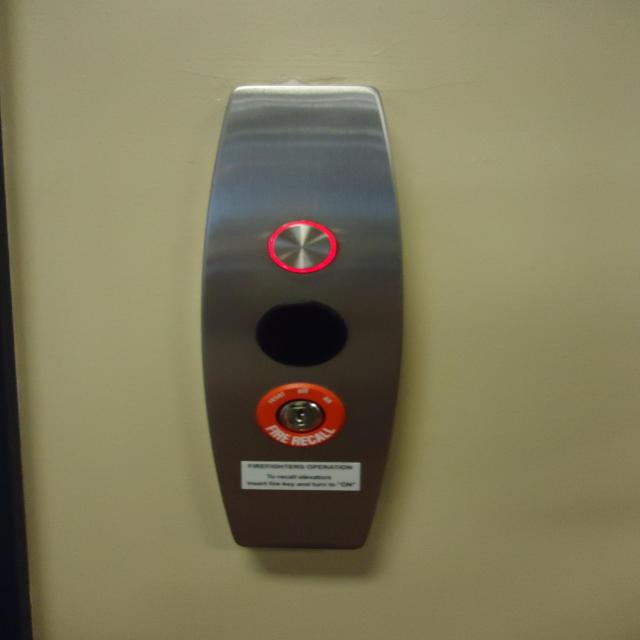empty: (250, 295, 353, 370), (262, 215, 342, 278)
keyhole: (252, 378, 351, 452)
